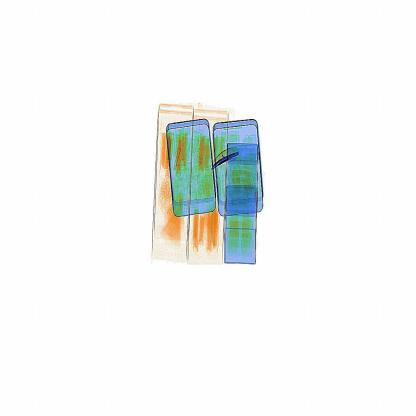pliers: (211, 143, 242, 171)
